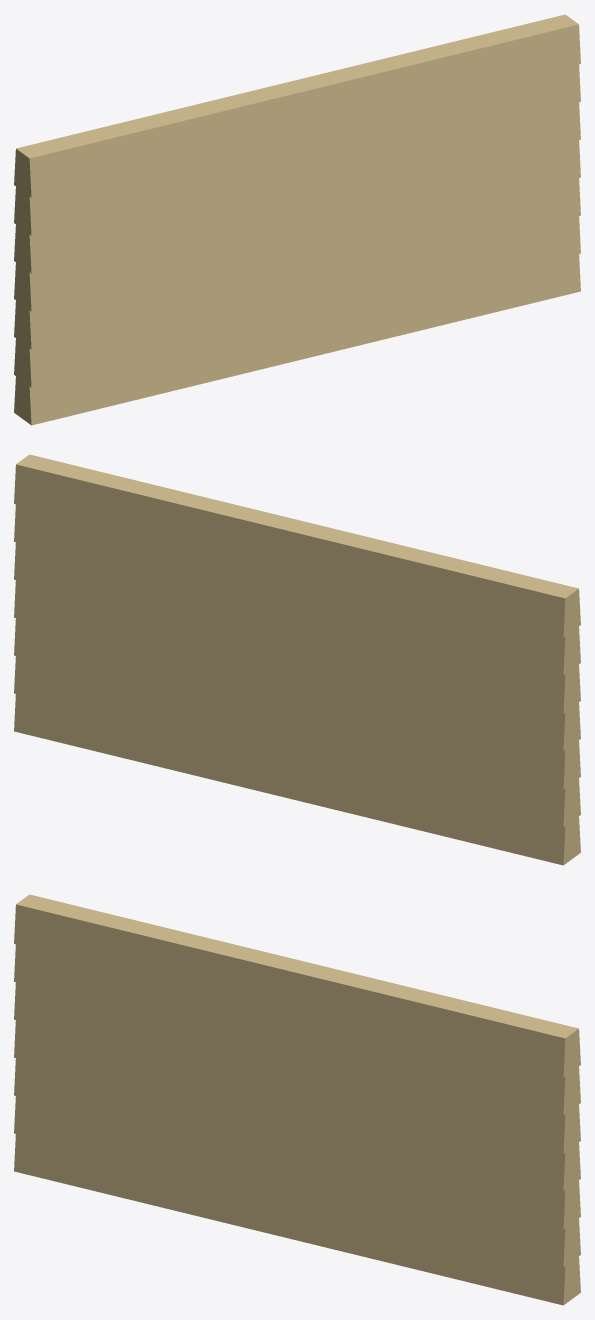
File: GarageWall01_house4.fbx
3 views of the same model, one above another, from view 1: azimuth 30°, elevation 25°; view 2: azimuth 150°, elevation 25°; view 3: azimuth 330°, elevation 25° (orthographic).
Visible parts, largest first — view 1: GarageWall01_house4; view 2: GarageWall01_house4; view 3: GarageWall01_house4.
Boxes of the visible parts, <box> form: GarageWall01_house4: <box>14,14,580,425</box>; GarageWall01_house4: <box>14,454,580,865</box>; GarageWall01_house4: <box>14,894,580,1305</box>.
Size of the model in its own units: 716 by 330 by 39.57.
